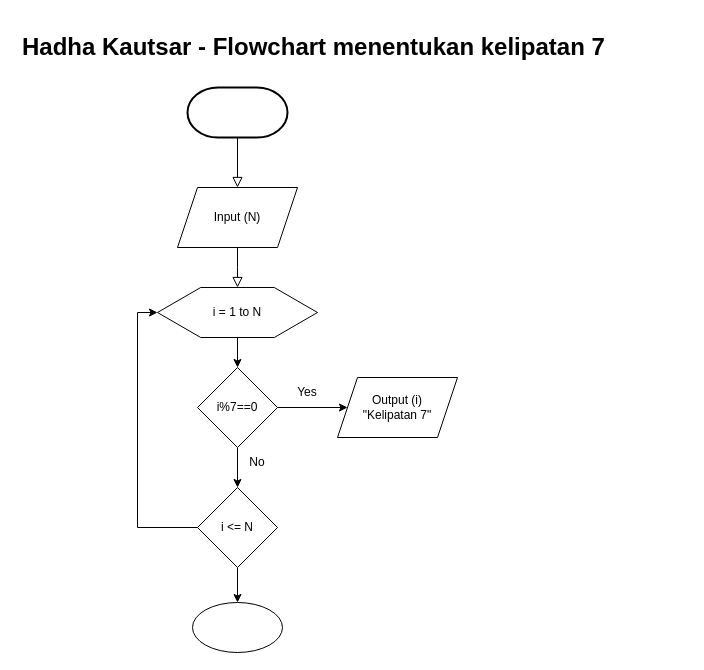
Some shapes in this 704 by 670 pixel diagram are drawn without their labels. Here are the shapes that lost their labels. From the top down, the centre of each, then its label:
At point 237,112: "Mulai".
At point 237,627: "Selesai".
